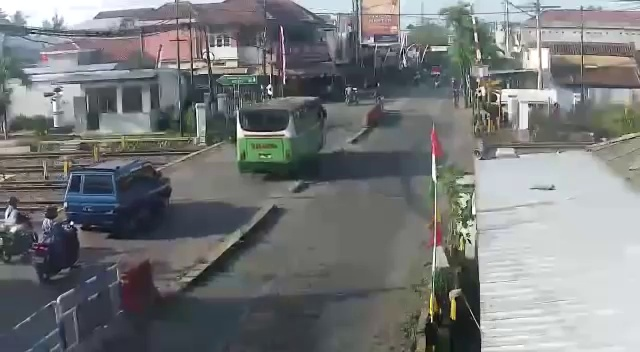car: (65, 159, 177, 239), (237, 95, 332, 186)
motorbike: (35, 206, 84, 284), (1, 195, 38, 267)
